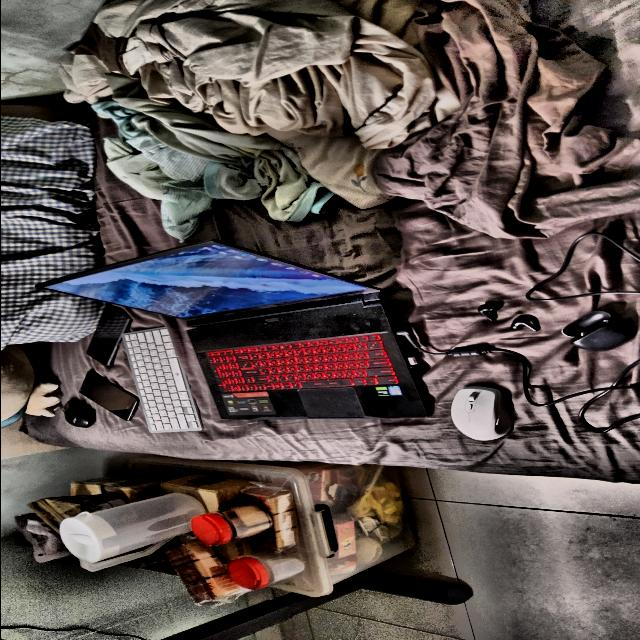Bluetooth headphones: (561, 310, 635, 351), (510, 315, 539, 331), (477, 302, 499, 320)
Keyboard: (125, 327, 200, 434)
Laptop: (37, 240, 428, 420)
MOUSE: (450, 387, 510, 440), (63, 400, 95, 427)
PHONE: (79, 370, 138, 421), (85, 305, 130, 365)
